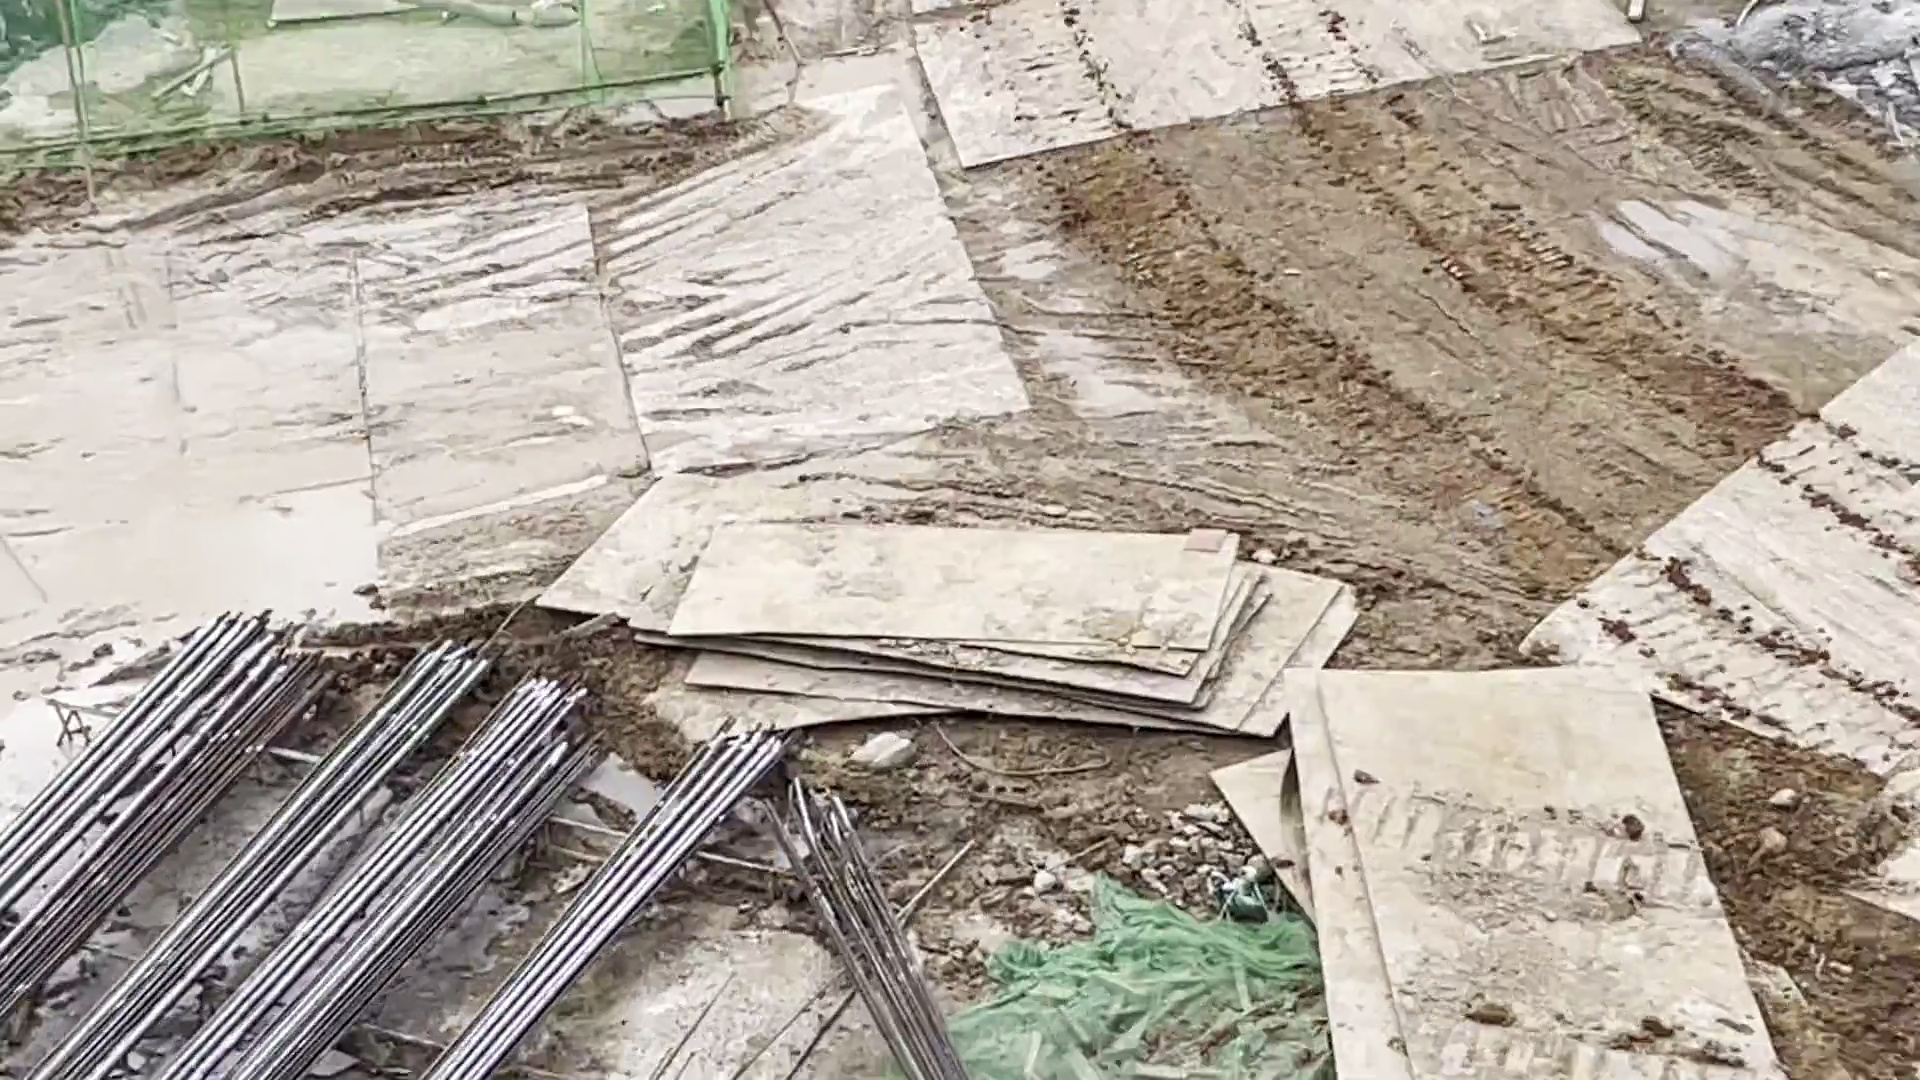rebar: (3, 617, 756, 1080), (775, 779, 961, 1080)
